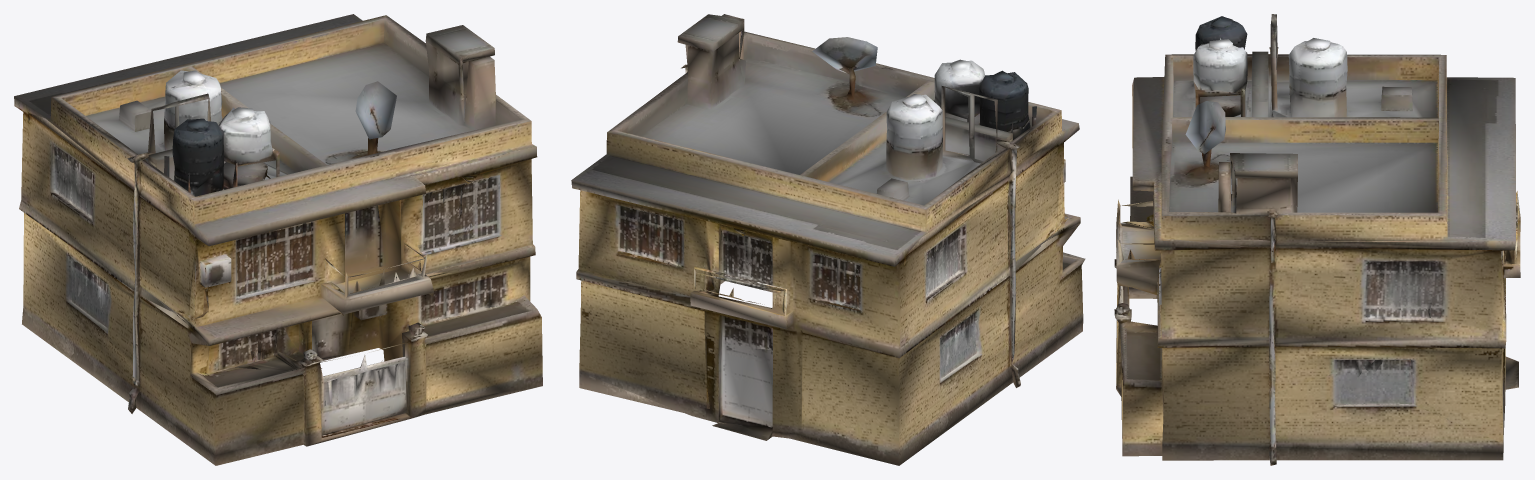
The model's file is bld_house_far.glb.
3 renders of one model, left to right at view 1: azimuth 30°, elevation 25°; view 2: azimuth 150°, elevation 25°; view 3: azimuth 270°, elevation 25°, orthographic. The views are drawn at different scales.
Visible parts, largest first — view 1: geometry_0; view 2: geometry_0; view 3: geometry_0.
Part boxes in pixels (left/top/right/bottom): geometry_0: left=14, top=14, right=542, bottom=465; geometry_0: left=571, top=14, right=1085, bottom=465; geometry_0: left=1114, top=14, right=1520, bottom=465.
Bounding box in the file's own units: 0.769 × 0.6157 × 0.7679.
1 material, 1 textured.
